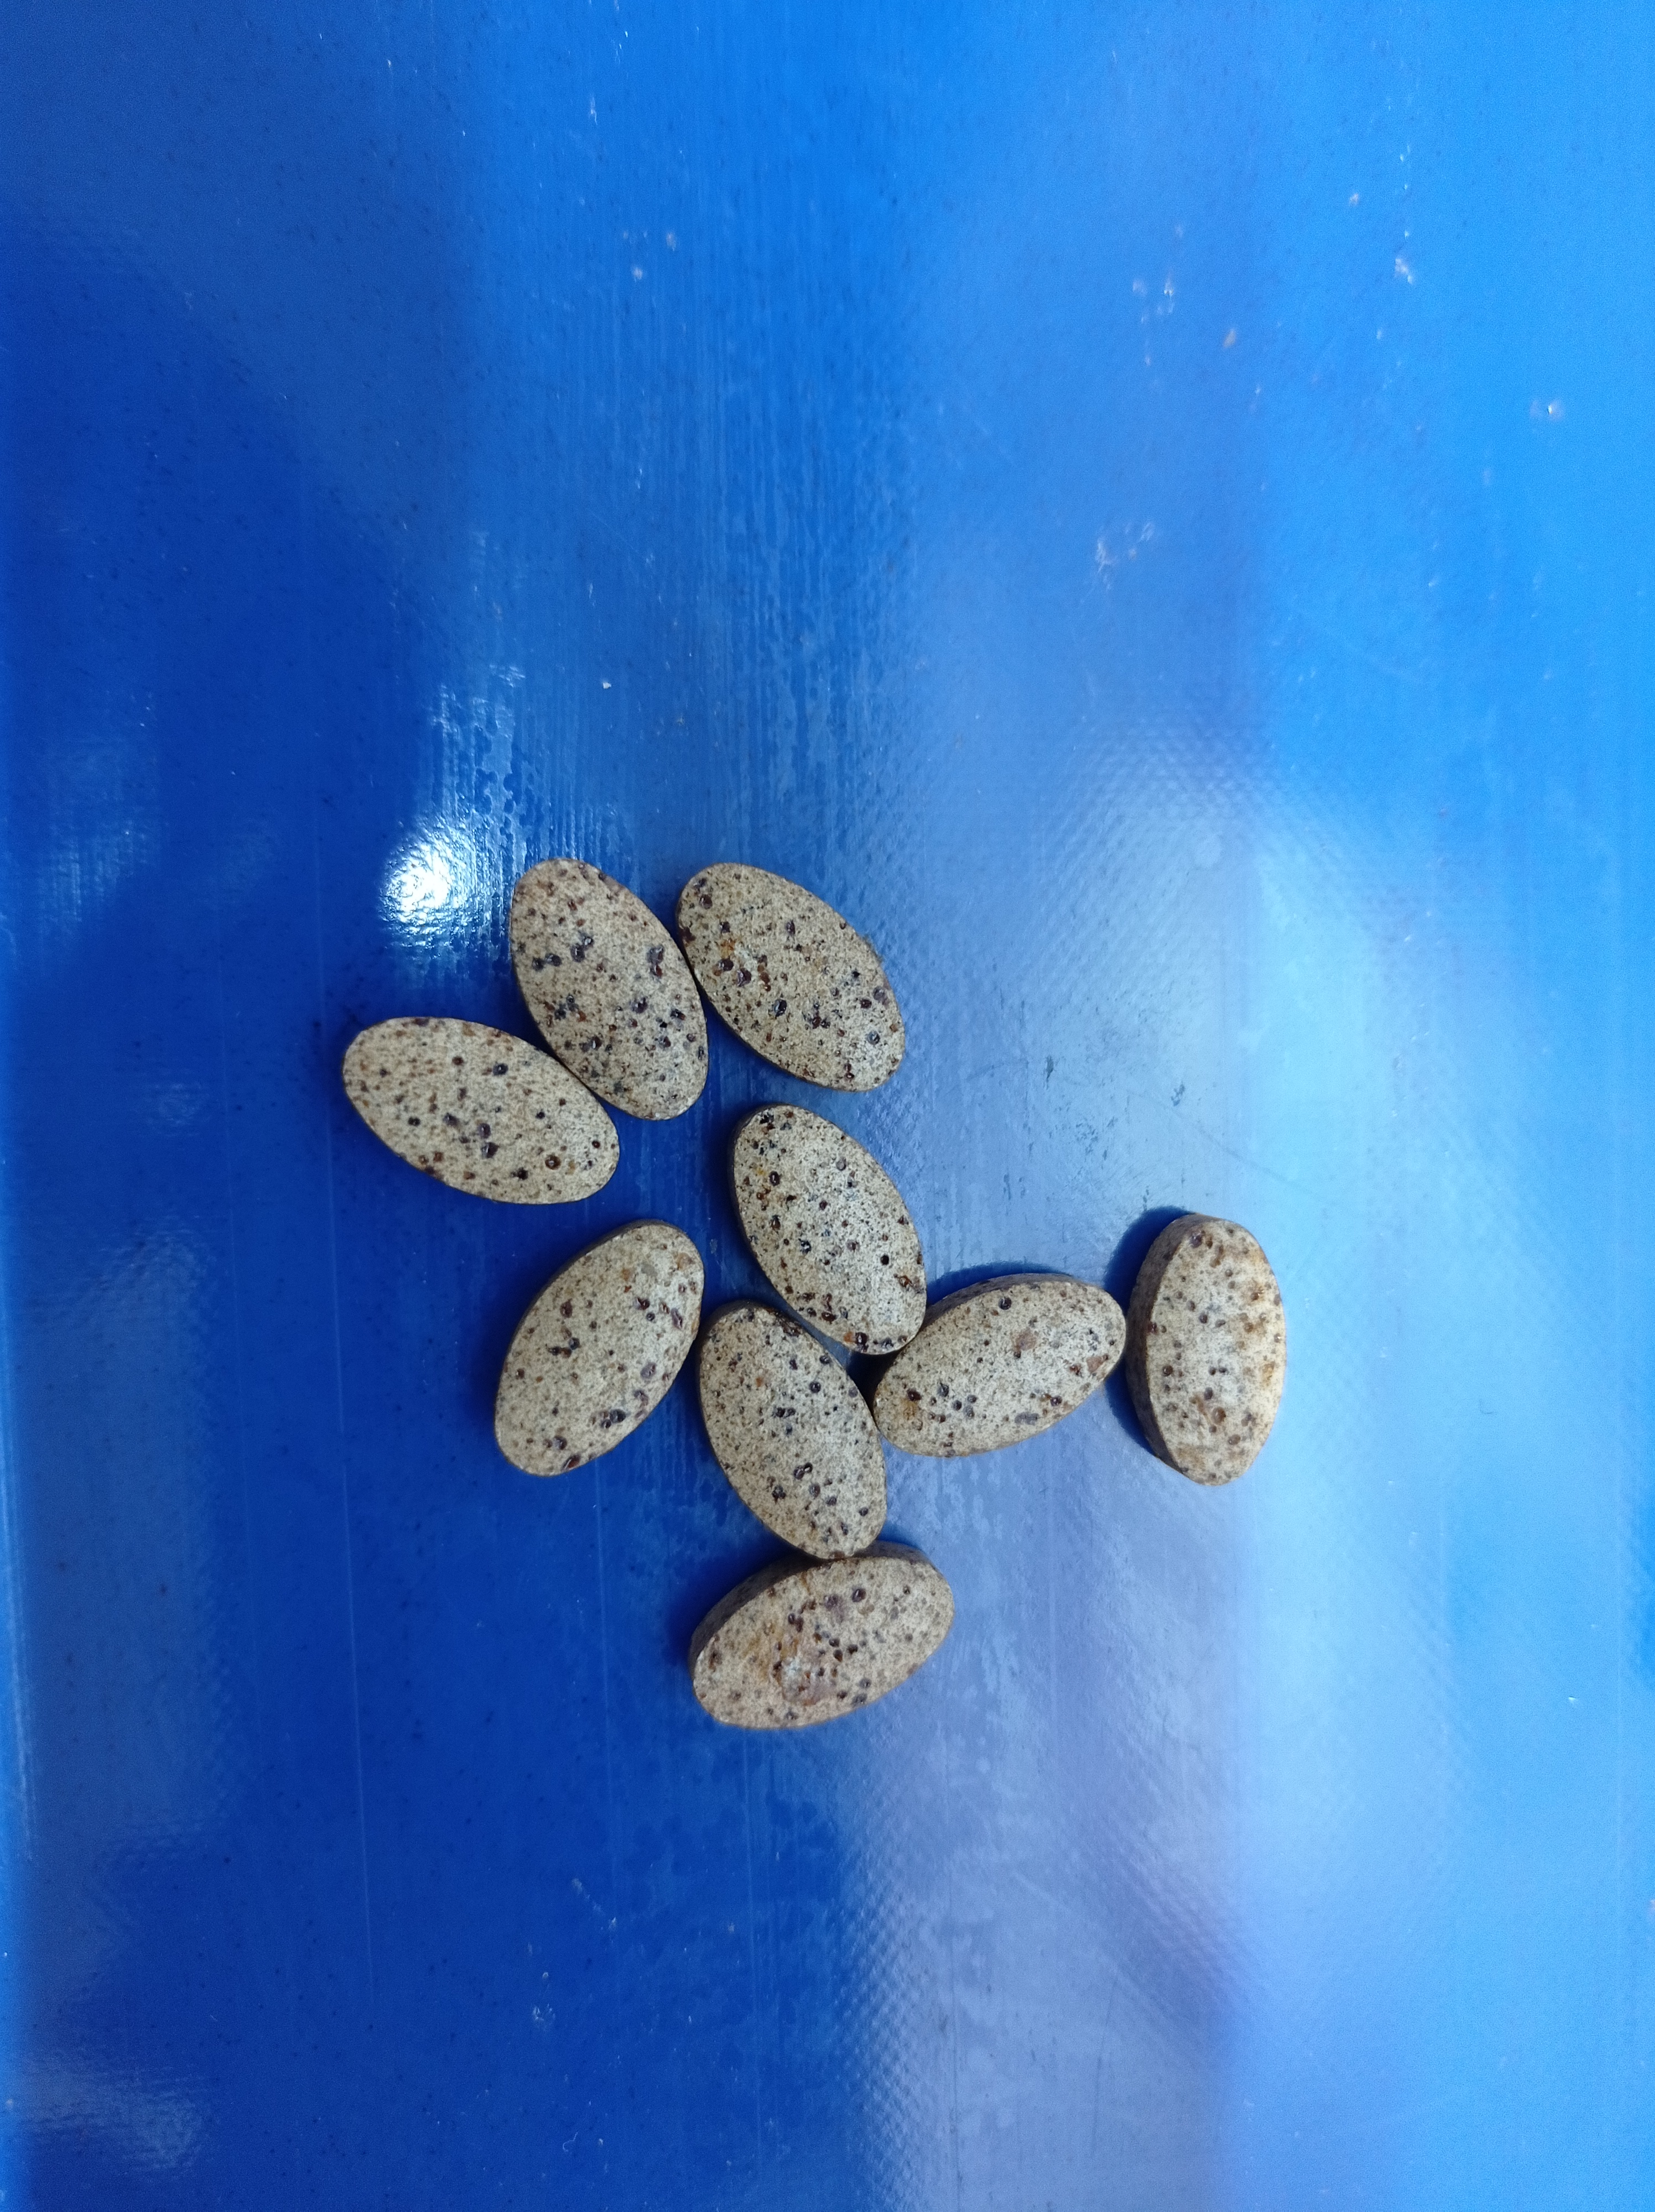brown_medicine: (501, 855, 715, 1129), (334, 1013, 628, 1211), (671, 860, 913, 1093), (673, 1308, 894, 1555), (728, 1102, 935, 1359), (495, 1225, 701, 1484), (869, 1268, 1128, 1463), (688, 1546, 954, 1731), (1120, 1209, 1290, 1486)
